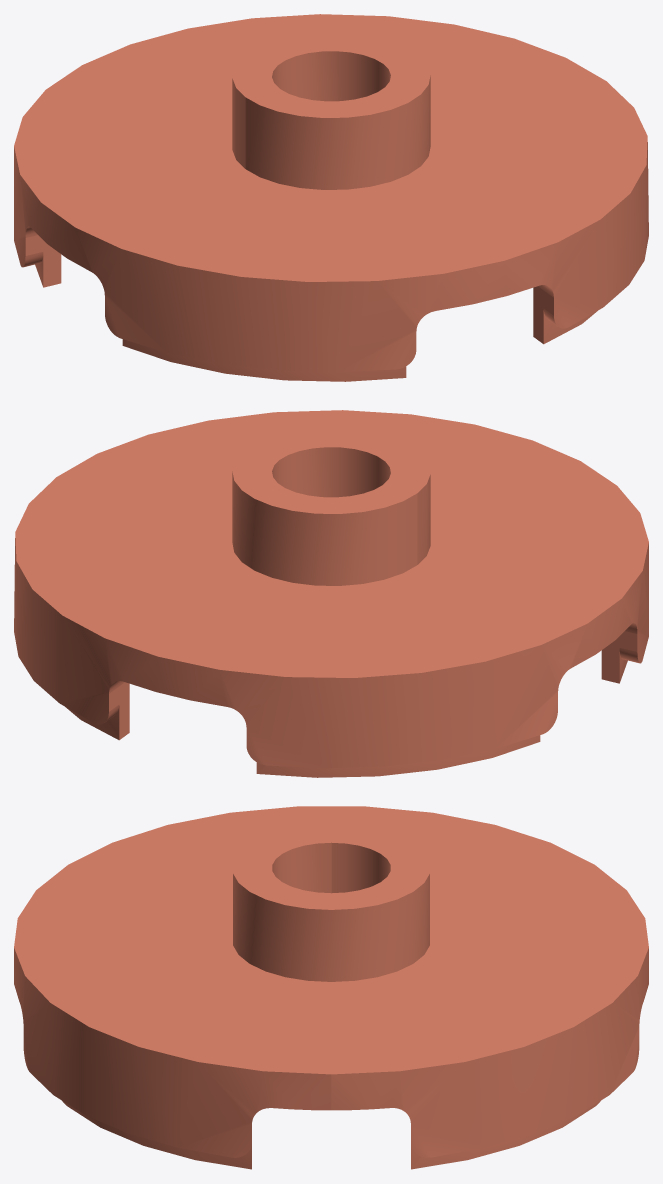
3 renders of one model, top to bottom at view 1: azimuth 30°, elevation 25°; view 2: azimuth 150°, elevation 25°; view 3: azimuth 270°, elevation 25°, orthographic.
Parts seen in each view (by area): view 1: [pivoted].001; view 2: [pivoted].001; view 3: [pivoted].001.
Boxes of the visible parts, x1,y1,x2,y2 form: [pivoted].001: [14, 14, 648, 381]; [pivoted].001: [14, 410, 648, 777]; [pivoted].001: [14, 806, 648, 1169].
Size of the model in its own units: 1.6 by 0.5 by 1.6.
